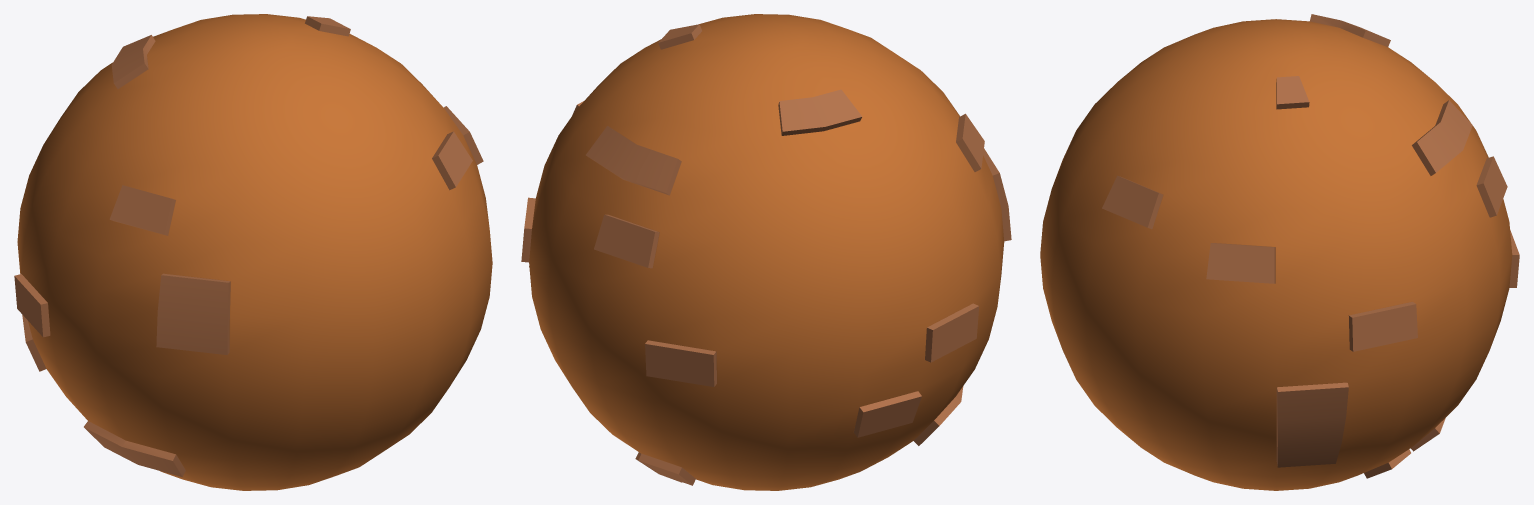
The model's file is Lower_Mantle_Icon_v01.fbx.
The picture shows the model from 3 angles, left to right: view 1: azimuth 30°, elevation 25°; view 2: azimuth 150°, elevation 25°; view 3: azimuth 270°, elevation 25°; orthographic projection.
Parts seen in each view (by area): view 1: Lower_Mantle_1; view 2: Lower_Mantle_1; view 3: Lower_Mantle_1.
Part boxes in pixels (left/top/right/bottom): Lower_Mantle_1: left=14, top=14, right=492, bottom=490; Lower_Mantle_1: left=521, top=14, right=1011, bottom=490; Lower_Mantle_1: left=1040, top=14, right=1519, bottom=490.
Size of the model in its own units: 2.05 by 2 by 2.03.
